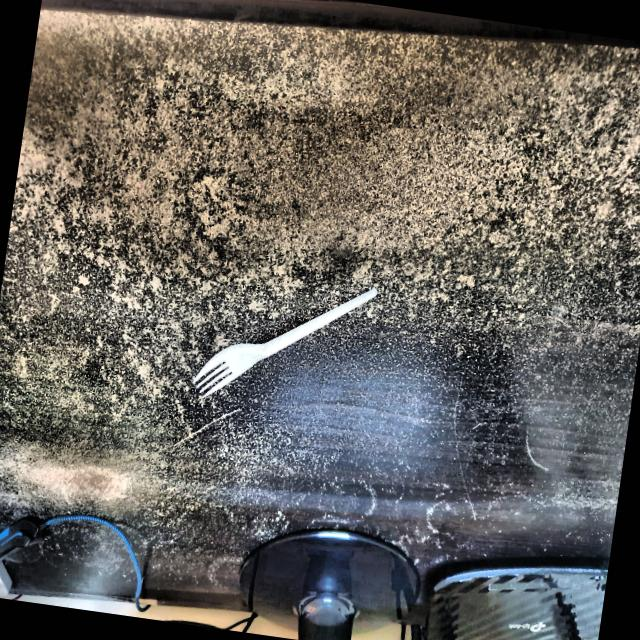plastic utensil: (190, 262, 379, 425)
